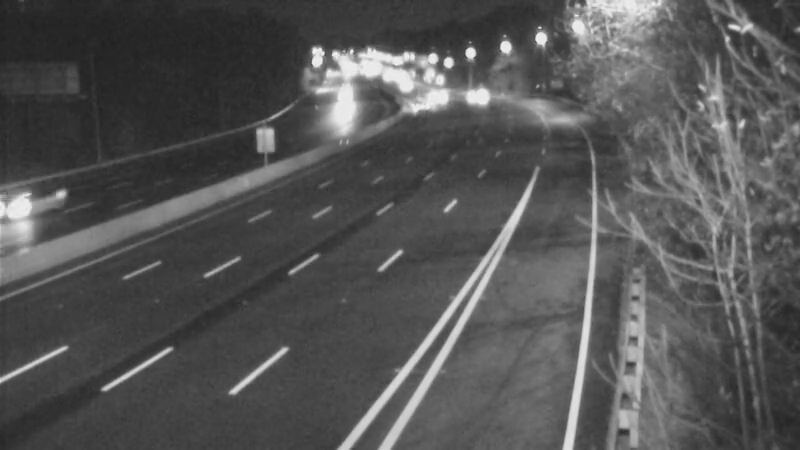vehicle: (1, 162, 72, 242), (409, 72, 459, 122), (447, 68, 497, 118), (395, 77, 445, 127)
